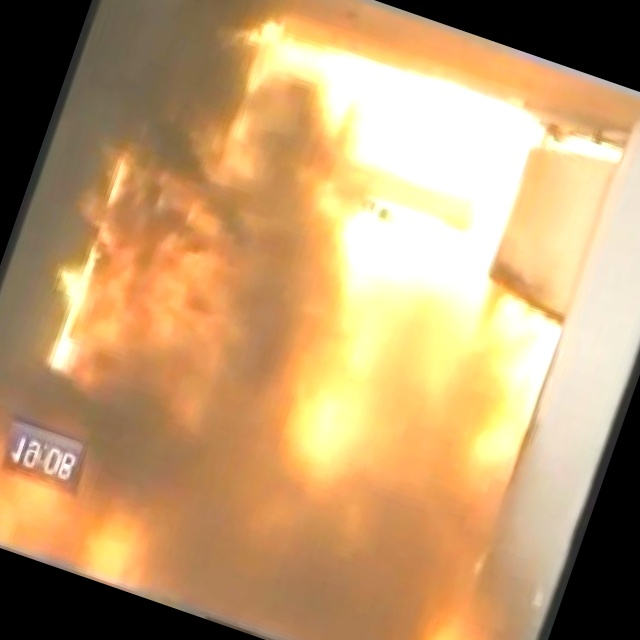fire: (0, 0, 632, 640)
